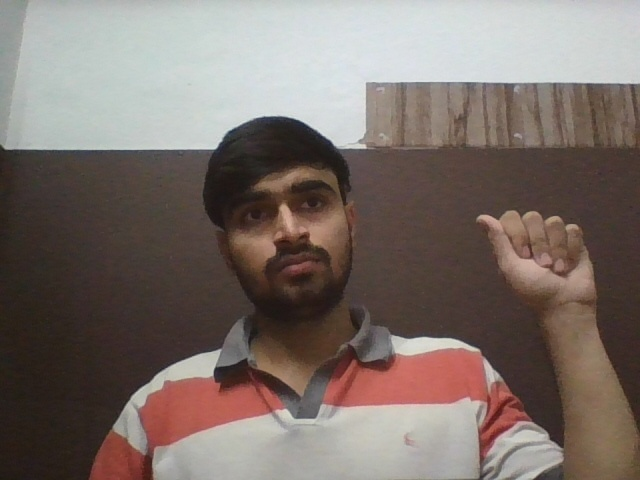A: (474, 209, 598, 305)
